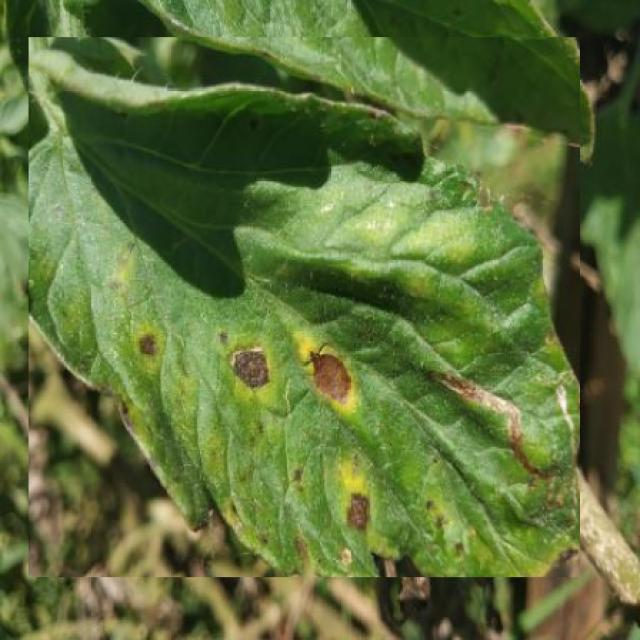Early Blight: (28, 37, 580, 577)
